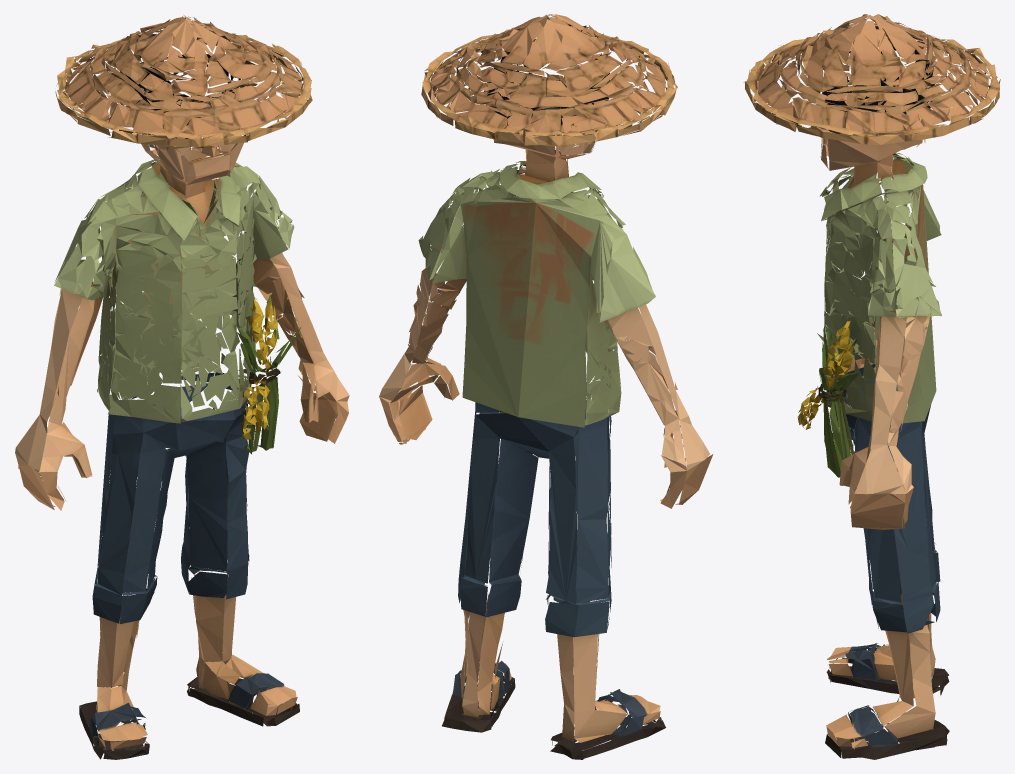
The model's file is habitant.glb.
3 renders of one model, left to right at view 1: azimuth 30°, elevation 25°; view 2: azimuth 150°, elevation 25°; view 3: azimuth 270°, elevation 25°, orthographic.
Visible parts, largest first — view 1: world; view 2: world; view 3: world.
Boxes of the visible parts, x1,y1,x2,y2 form: world: (15, 14, 349, 759); world: (379, 14, 713, 759); world: (743, 14, 1000, 759).
Bounding box in the file's own units: 0.464 × 1.01 × 0.3368.
Materials: 1 (1 with a texture image).
